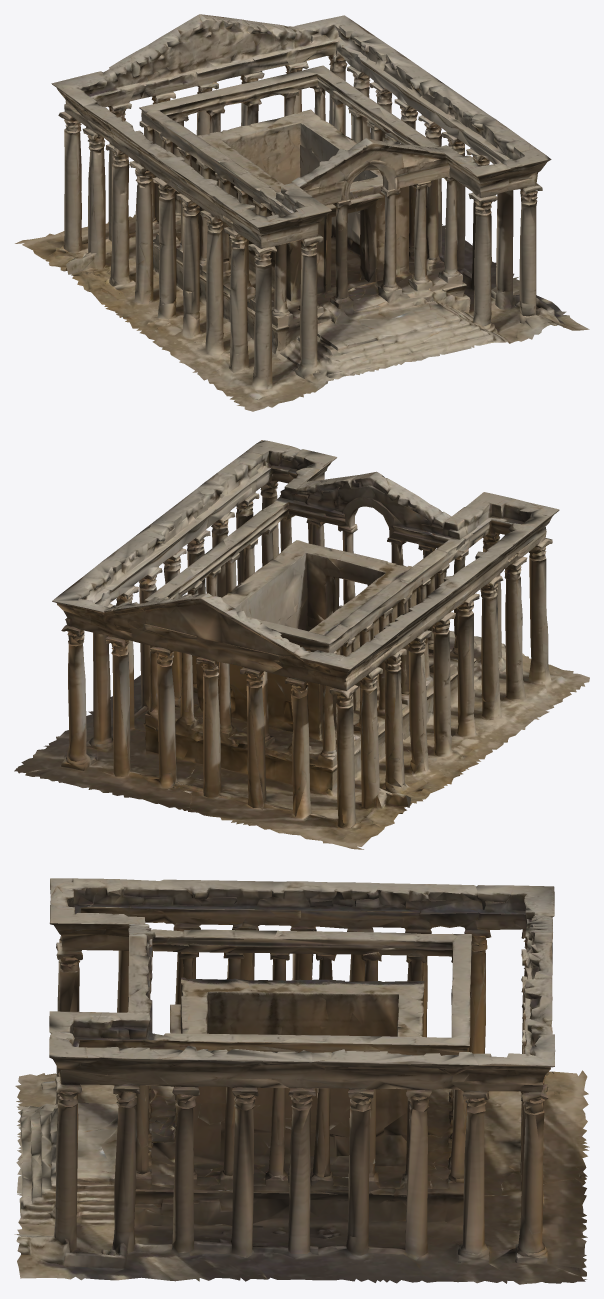
Rendered from temple.glb.
The picture shows the model from 3 angles, top to bottom: view 1: azimuth 30°, elevation 25°; view 2: azimuth 150°, elevation 25°; view 3: azimuth 270°, elevation 25°; orthographic projection. The views are drawn at different scales.
Visible parts, largest first — view 1: temple_lod0; view 2: temple_lod0; view 3: temple_lod0.
Boxes of the visible parts, x1=… form: temple_lod0: x1=15, y1=14, x2=589, y2=411; temple_lod0: x1=14, y1=440, x2=589, y2=849; temple_lod0: x1=14, y1=878, x2=589, y2=1284.
Size of what is drawn, in the model's own units: 19.92 by 11.06 by 23.29.
Materials: 1 (1 with a texture image).
